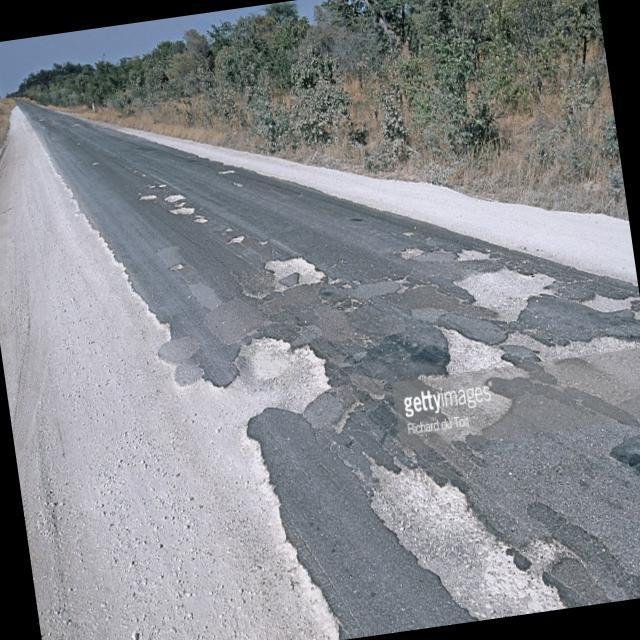Pothole: (384, 453, 546, 630), (224, 320, 338, 430), (455, 266, 559, 328), (434, 328, 508, 388), (259, 240, 330, 300), (576, 280, 636, 326), (450, 239, 496, 269), (396, 240, 427, 267)
